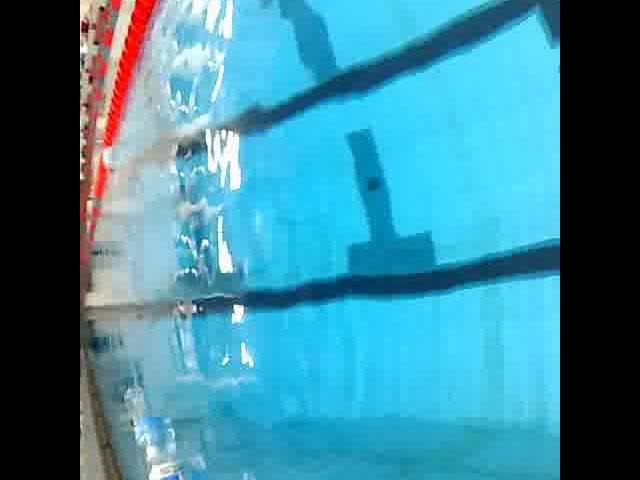Bottle: (121, 377, 169, 461), (147, 454, 213, 480)
